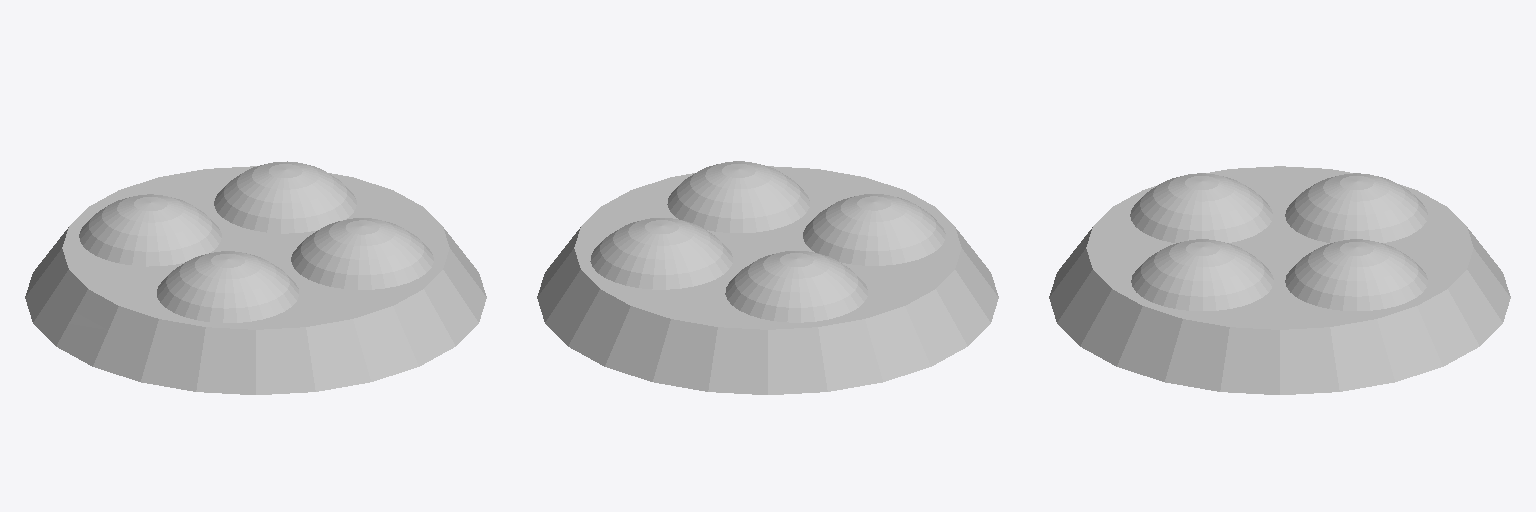
Rendered from player.obj.
3 views of the same model, side by side, from view 1: azimuth 30°, elevation 25°; view 2: azimuth 150°, elevation 25°; view 3: azimuth 270°, elevation 25° (orthographic).
Visible parts, largest first — view 1: Cone001, Sphere003, Sphere004, Sphere002, Sphere001; view 2: Cone001, Sphere001, Sphere002, Sphere004, Sphere003; view 3: Cone001, Sphere001, Sphere003, Sphere004, Sphere002.
Part boxes in pixels (x1,y1,x2,y2): Cone001: (25, 166, 486, 394); Sphere003: (291, 218, 433, 289); Sphere004: (157, 251, 298, 322); Sphere002: (79, 194, 221, 266); Sphere001: (214, 161, 356, 233); Cone001: (537, 166, 998, 394); Sphere001: (590, 218, 732, 289); Sphere002: (725, 251, 867, 322); Sphere004: (803, 194, 945, 265); Sphere003: (667, 161, 809, 232); Cone001: (1049, 166, 1510, 394); Sphere001: (1285, 239, 1427, 310); Sphere003: (1131, 239, 1273, 310); Sphere004: (1130, 173, 1272, 242); Sphere002: (1285, 173, 1427, 242).
Bounding box in the file's own units: 4.63 × 0.925 × 4.63.